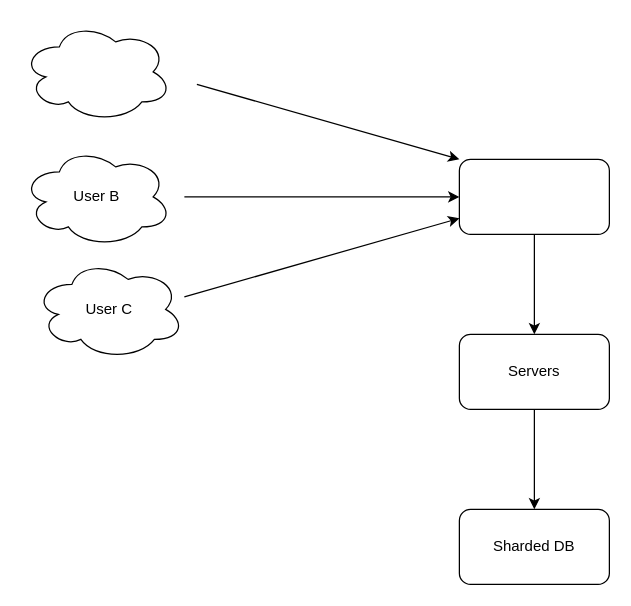
Some shapes in this 631 by 606 pixel diagram are drawn without their labels. The box of each missing label's shape, as (x1, y1, x2, y2) in pixels:
Load Balancer: (458, 158, 609, 234)
User A: (21, 21, 172, 122)
